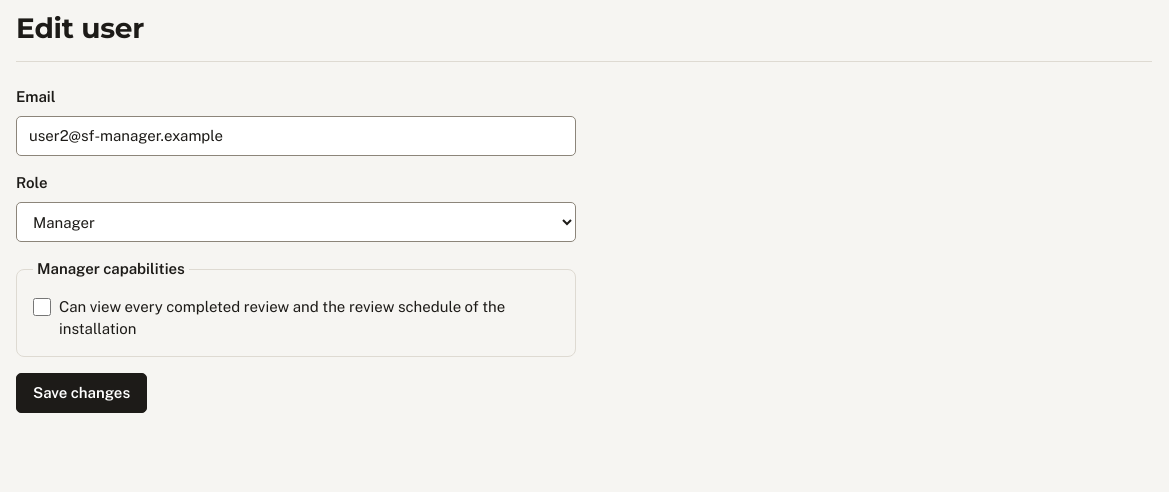
Test: UserEditPage › blocks submission client-side and shows a validation error for an invalid email
Replace the text in the field with test id "user-edit-email" with "not-an-email" at (296, 136), box [16,116,576,156]
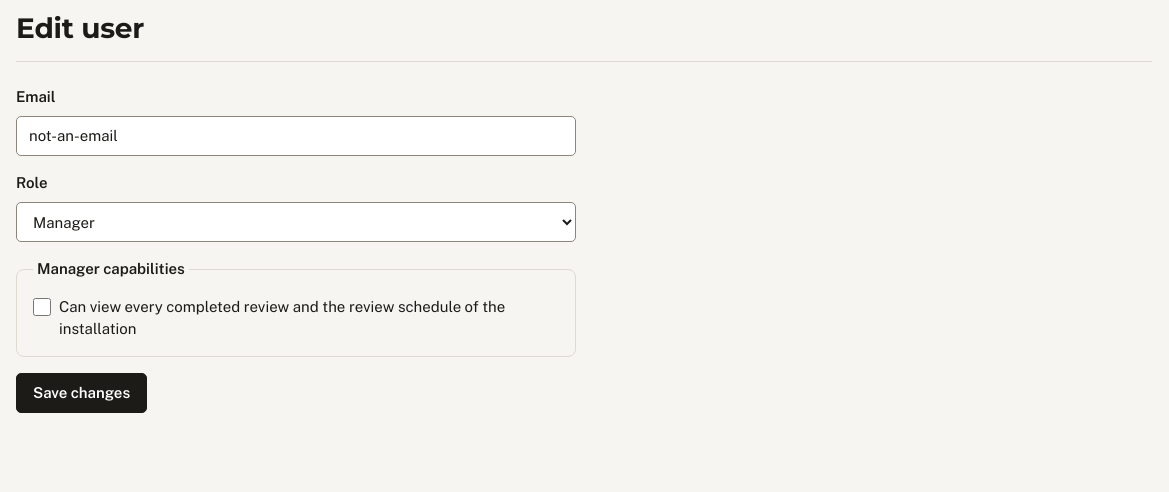
Click the button with test id "user-edit-submit" at (82, 393), box [16,373,147,413]
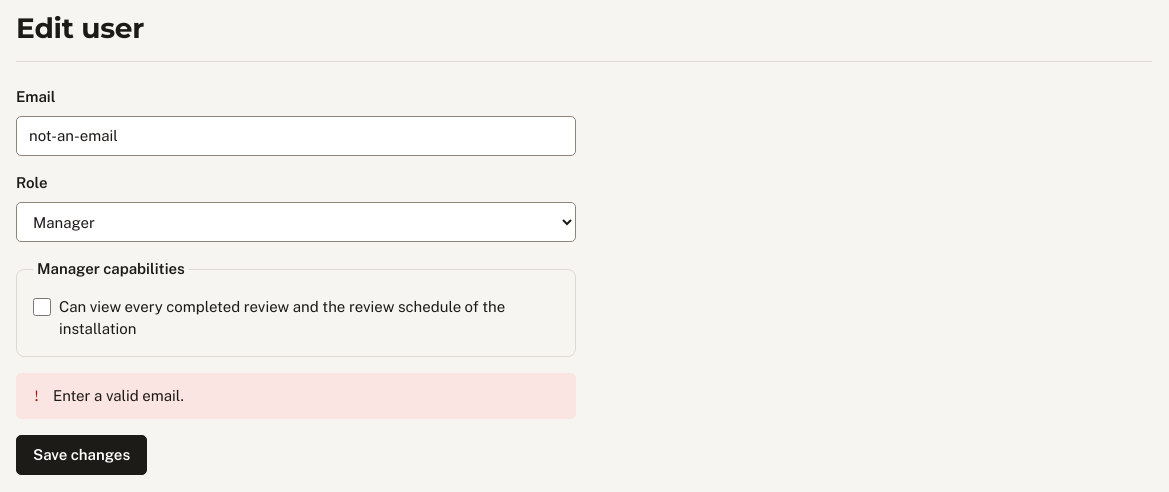
Expected: the message "! Enter a valid email." is shown, [16,373,576,419]
